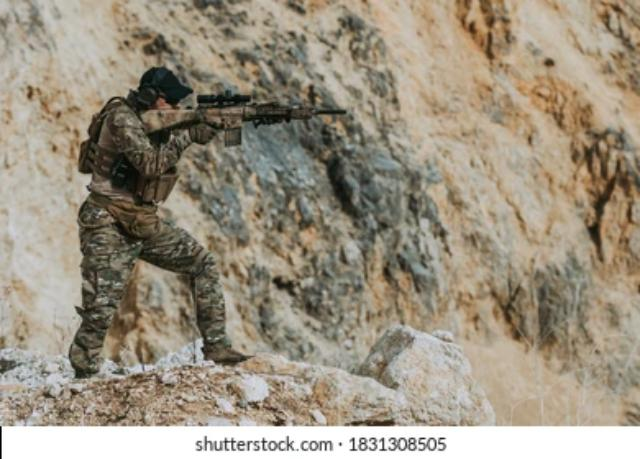other: (78, 67, 210, 368)
